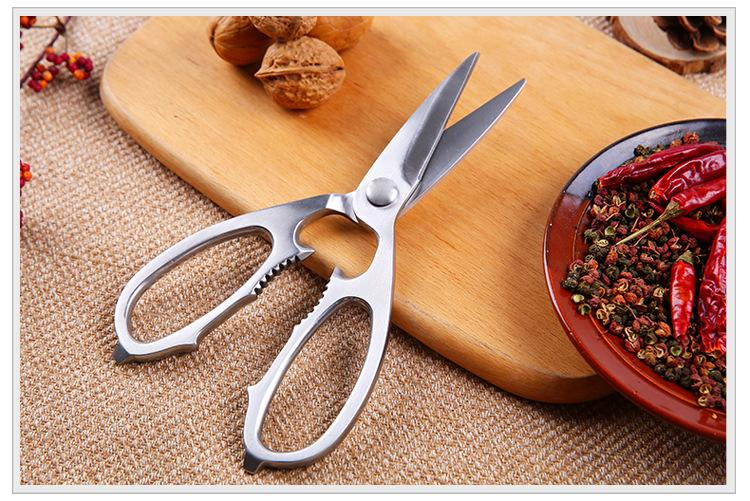scissor: (189, 47, 530, 472)
